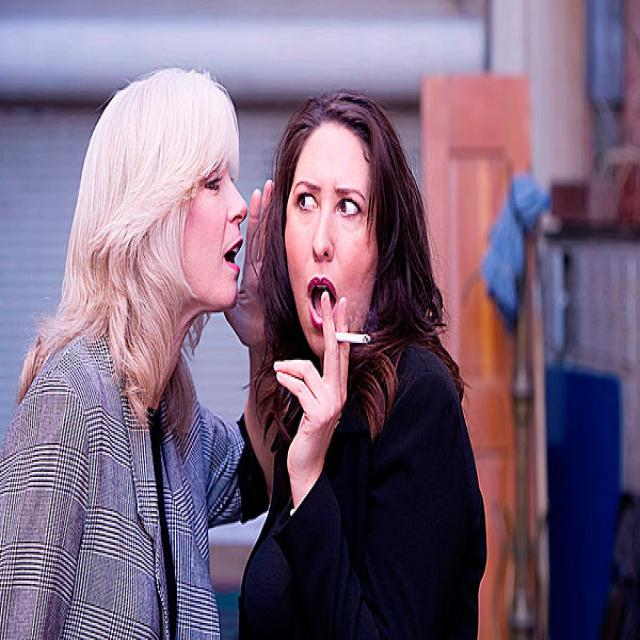smoking: (327, 329, 370, 345)
